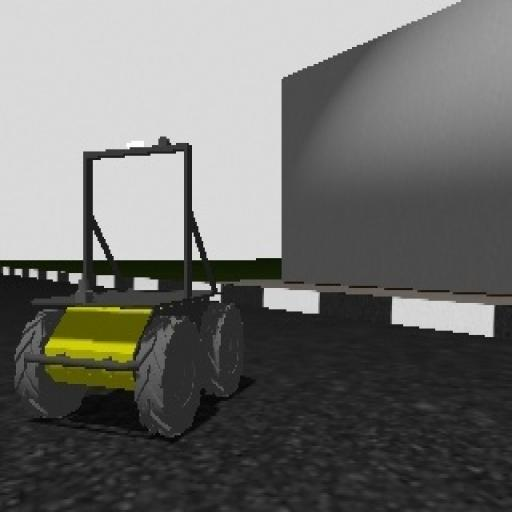huskya200: (7, 132, 252, 438)
